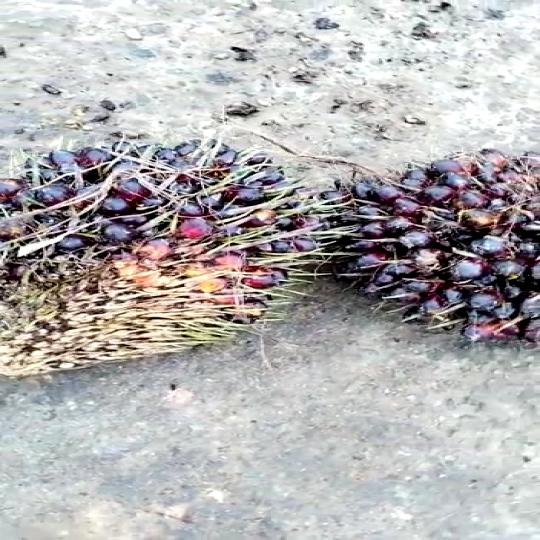kurang masak: (0, 129, 336, 358), (329, 130, 540, 318)
